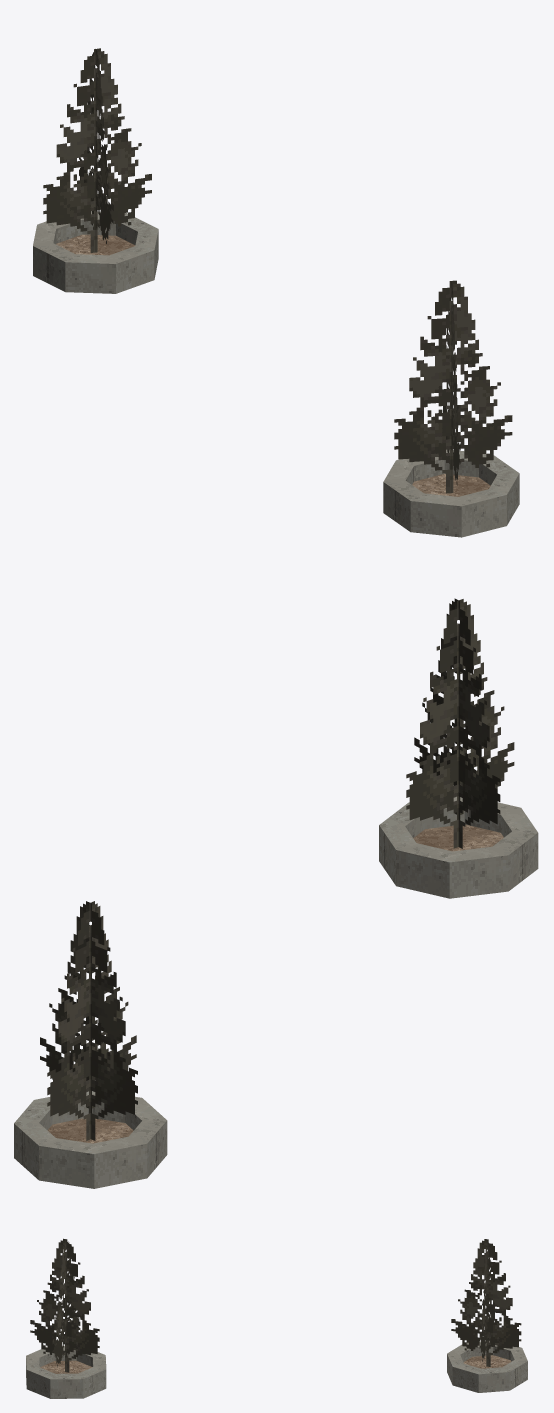
File: procgen-procpain-tree-park-pine-large-xm3zm2.obj
The picture shows the model from 3 angles, top to bottom: view 1: azimuth 30°, elevation 25°; view 2: azimuth 150°, elevation 25°; view 3: azimuth 270°, elevation 25°; orthographic projection. The views are drawn at different scales.
Size of the model in its own units: 6.93 by 9.19 by 30.69.
